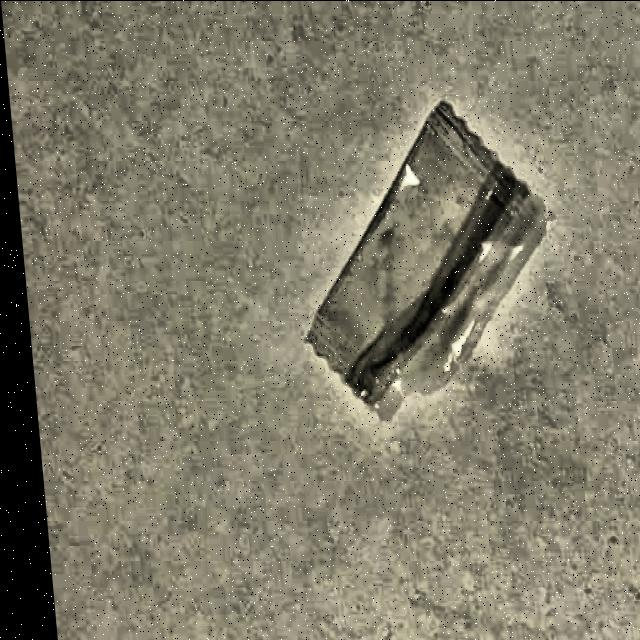plastic: (276, 100, 576, 460)
